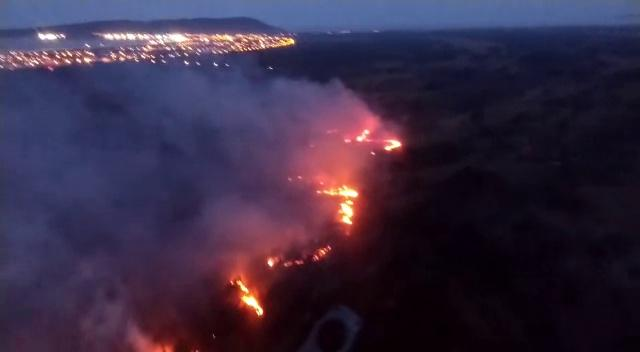fire: (381, 131, 403, 155), (324, 185, 357, 198), (240, 294, 264, 310), (342, 202, 353, 225)
smoke: (197, 203, 275, 251)
